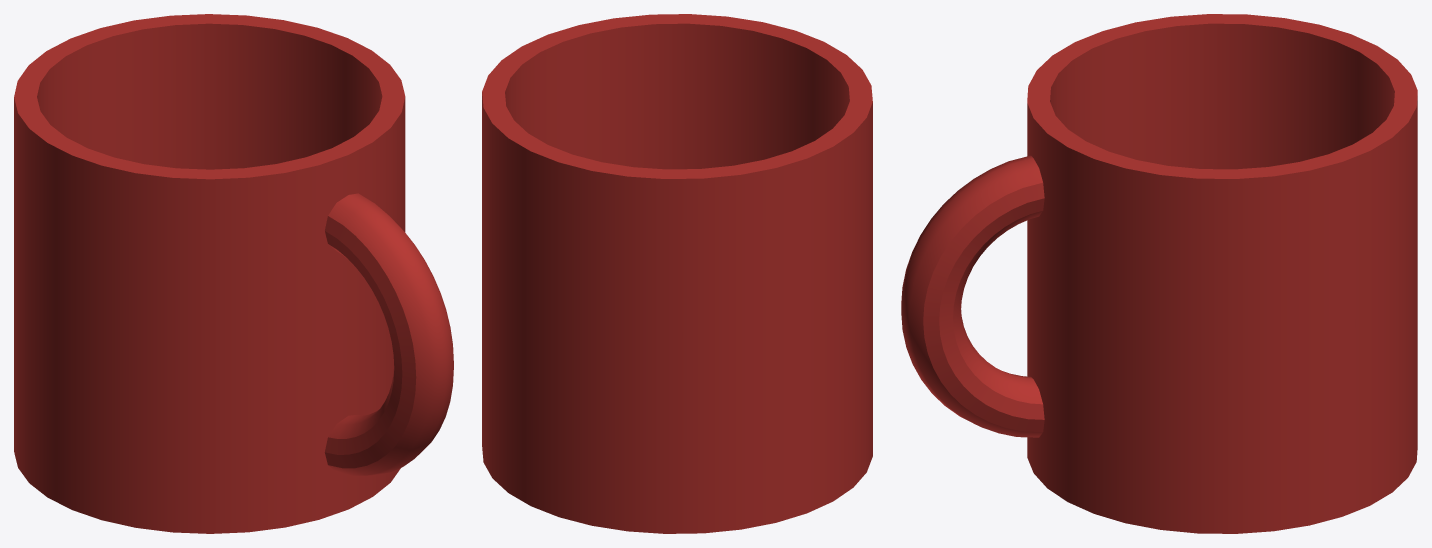
Rendered from Caneca.fbx.
3 views of the same model, side by side, from view 1: azimuth 30°, elevation 25°; view 2: azimuth 150°, elevation 25°; view 3: azimuth 270°, elevation 25° (orthographic).
Parts seen in each view (by area): view 1: Torus; view 2: Torus; view 3: Torus.
Boxes of the visible parts, x1,y1,x2,y2 form: Torus: (14,14,453,533); Torus: (482,14,872,533); Torus: (901,14,1417,533).
Bounding box in the file's own units: 56.22 × 56.36 × 74.36.
